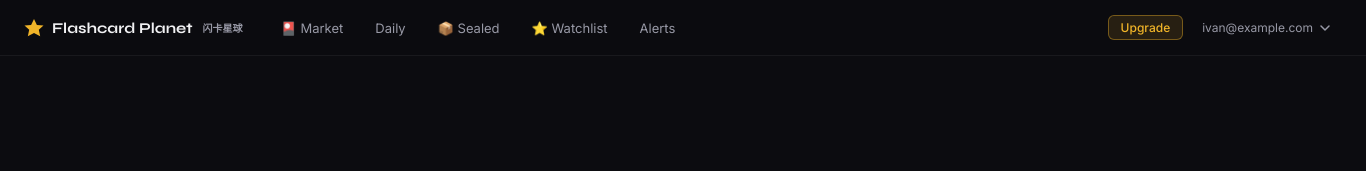
Test: NavBar avatar dropdown › opens dropdown when avatar button is clicked
This screenshot has width=1366, height=171.
Click the button "ivan@example.com". click: {"x": 1267, "y": 28}
box: [1191,14,1342,41]
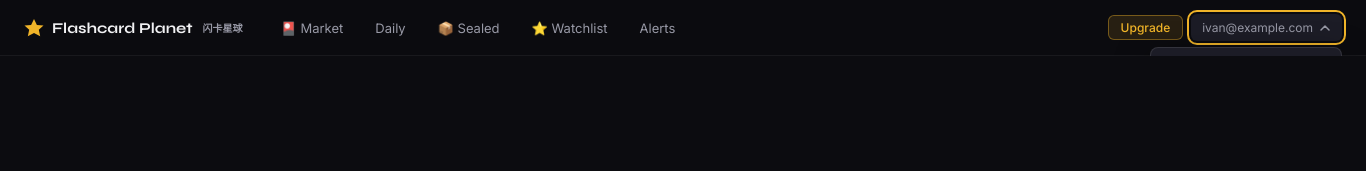
Result: the menu is shown at [1150,47,1342,154]
